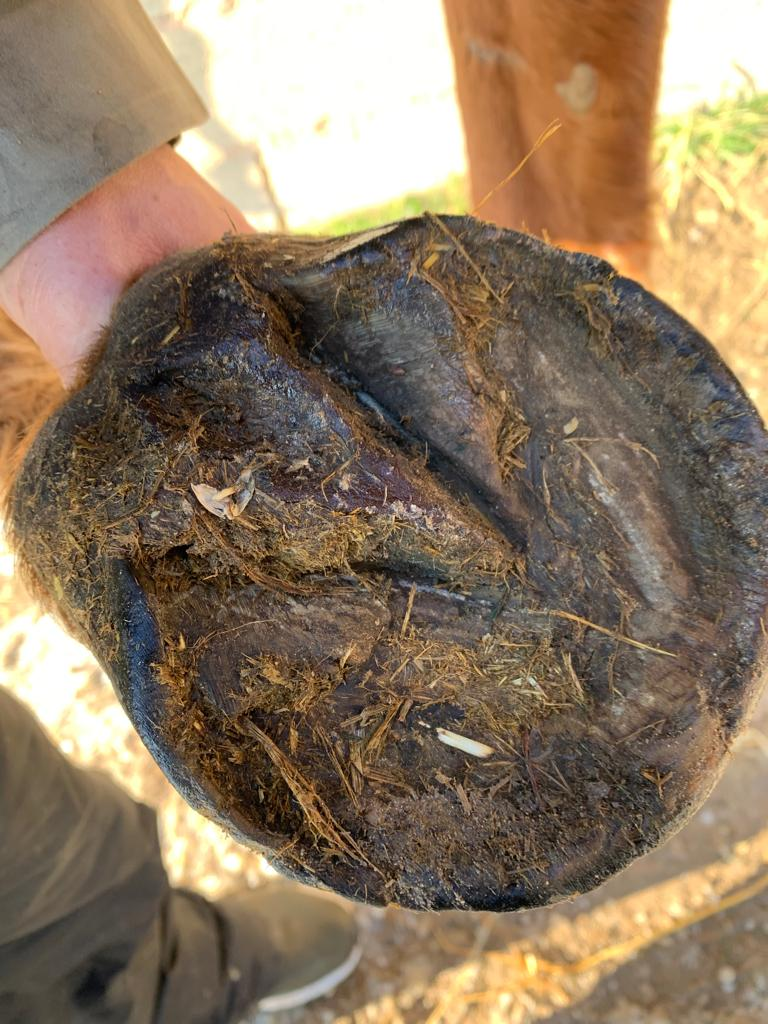horsesole: (106, 214, 768, 912)
